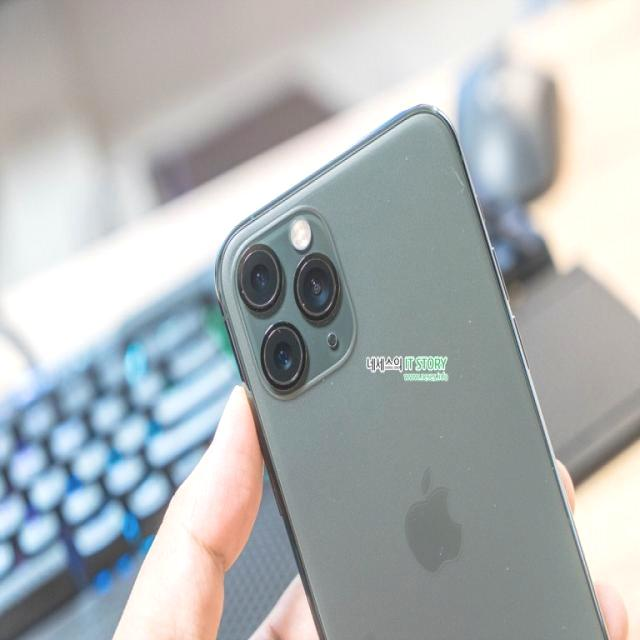lens: (238, 230, 356, 391)
phone: (210, 105, 613, 638)
